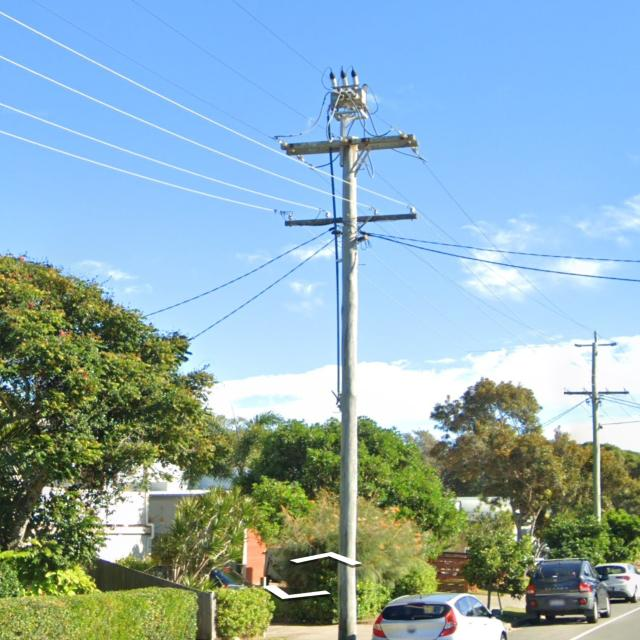HV-switch: (326, 66, 370, 124)
HV-transmission: (274, 126, 428, 163), (564, 328, 630, 396)
crossarm: (281, 134, 415, 150), (286, 140, 418, 156), (284, 213, 418, 226), (574, 330, 617, 348), (564, 391, 629, 395)
timber-pole: (337, 135, 360, 640), (590, 342, 602, 524)
